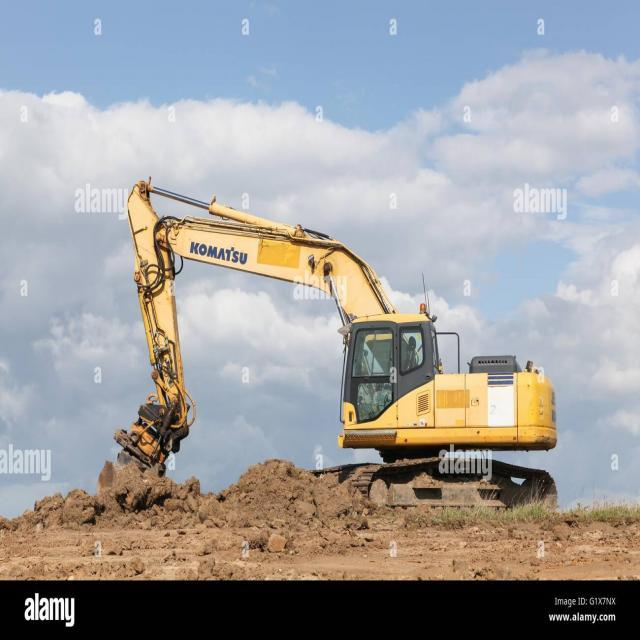C_E: (83, 178, 557, 524)
